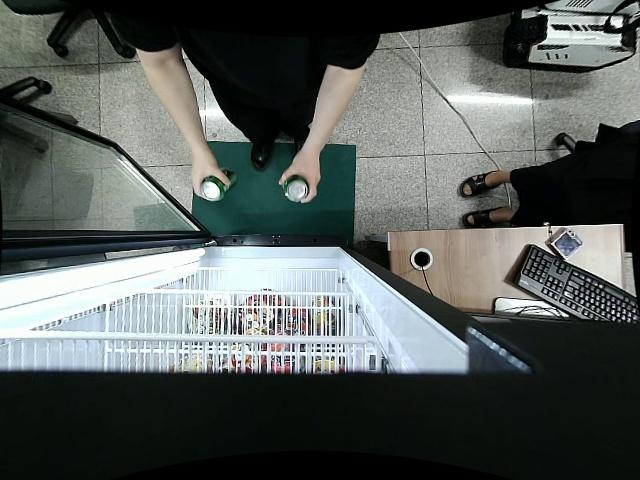00_hand: (278, 155, 321, 205), (191, 151, 231, 201)
12_chilsungCider: (201, 167, 237, 202), (279, 173, 308, 203)
